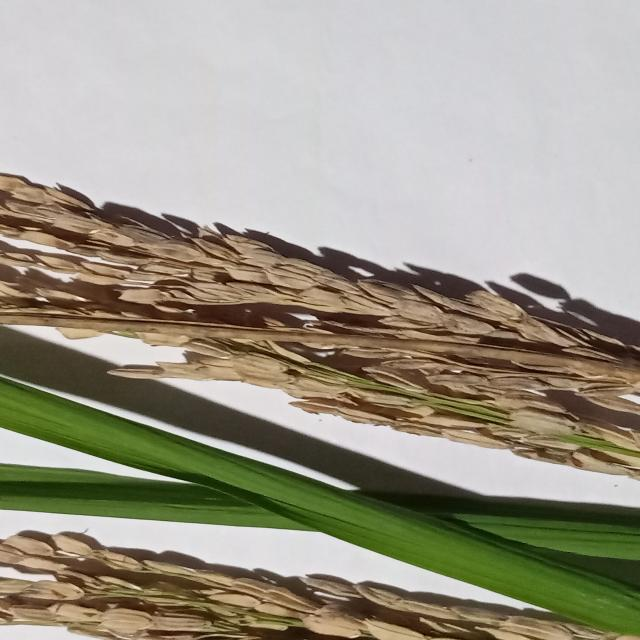Neck_Blast: (0, 165, 640, 484), (0, 525, 625, 640)
